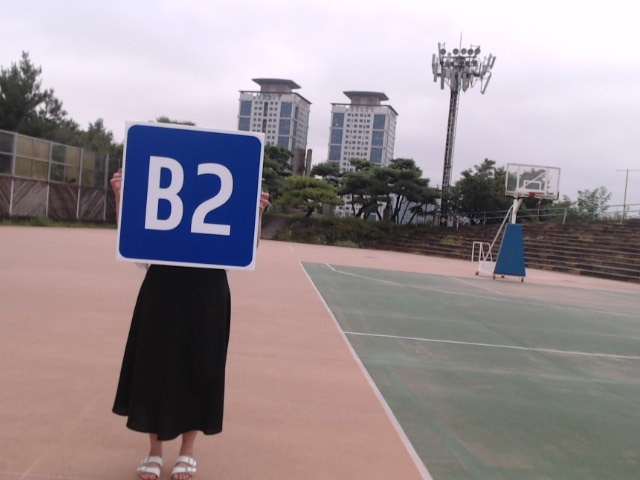delivery_b2: (118, 124, 263, 268)
